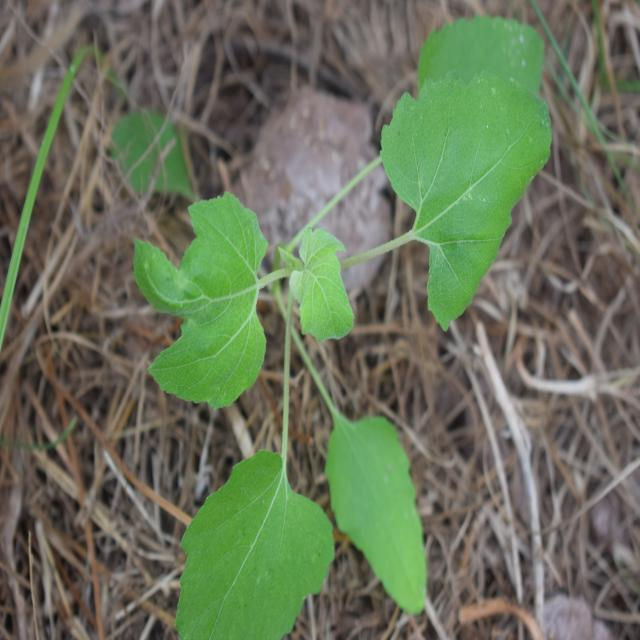cocklebur: (125, 1, 551, 586)
